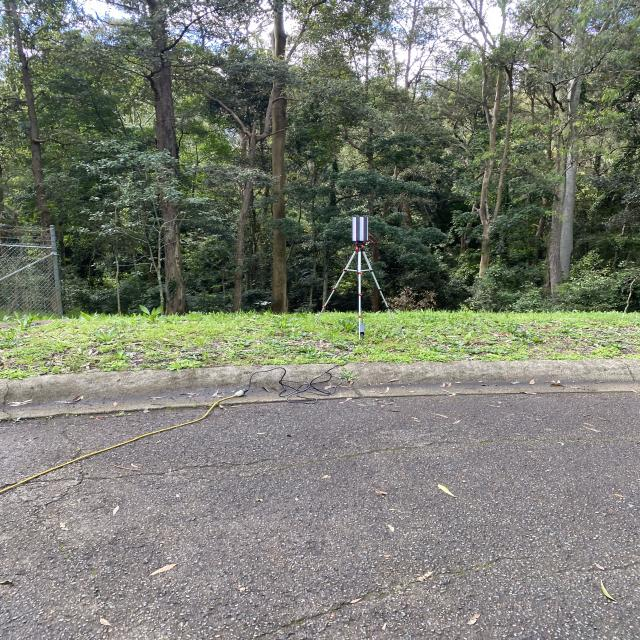matrix: (351, 215, 370, 243)
